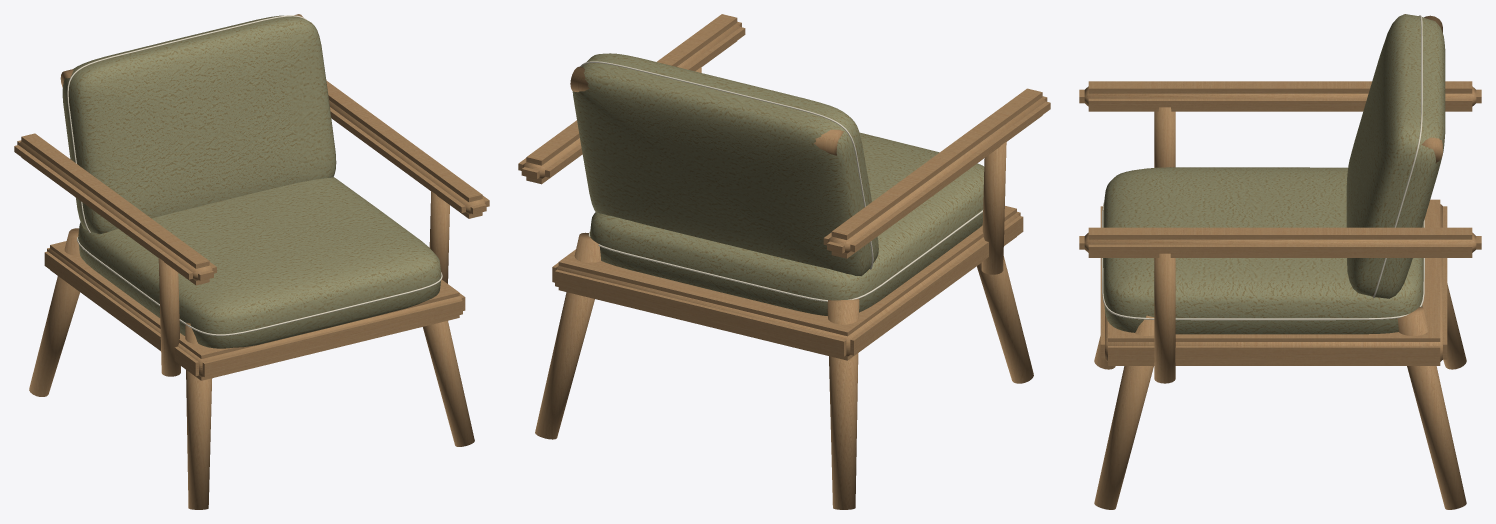
The model's file is country.armchair.gltf.
3 views of the same model, side by side, from view 1: azimuth 30°, elevation 25°; view 2: azimuth 150°, elevation 25°; view 3: azimuth 270°, elevation 25° (orthographic). The views are drawn at different scales.
Visible parts, largest first — view 1: country.armchair.splayed-leg; view 2: country.armchair.splayed-leg; view 3: country.armchair.splayed-leg.
Boxes of the visible parts, bbox=[...] form: country.armchair.splayed-leg: bbox=[14, 14, 489, 509]; country.armchair.splayed-leg: bbox=[518, 14, 1050, 509]; country.armchair.splayed-leg: bbox=[1079, 14, 1481, 509].
Size of the model in its own units: 0.7494 by 0.8007 by 0.7896.
Materials: 3 (2 with a texture image).
